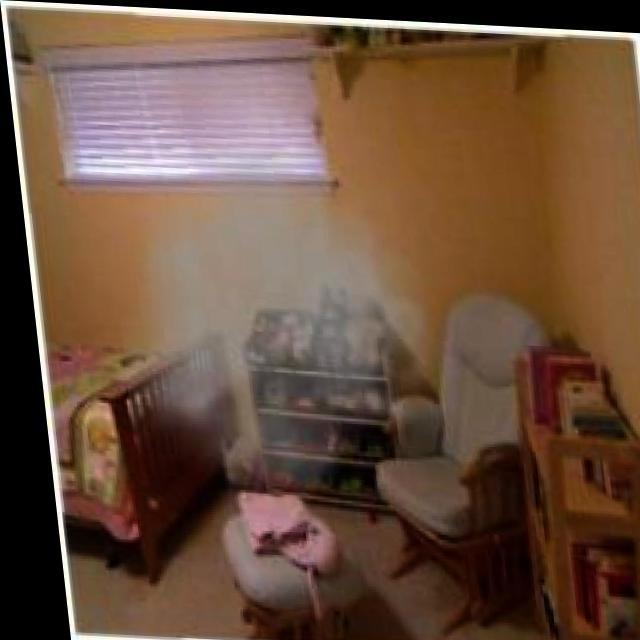Smoke: (126, 167, 462, 516)
